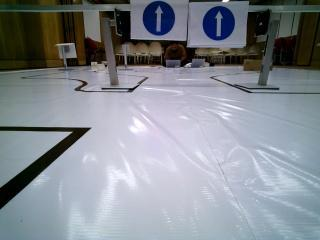straight: (192, 0, 244, 46), (133, 0, 191, 39)
